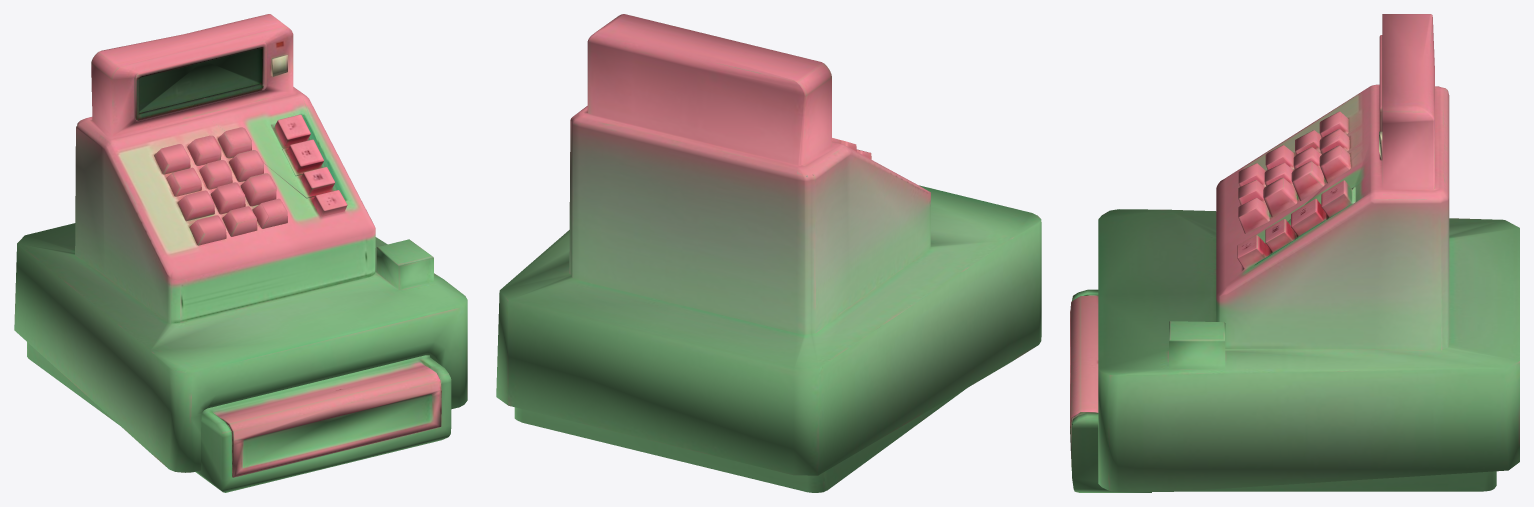
Rendered from Bank_CashRegister.glb.
3 renders of one model, left to right at view 1: azimuth 30°, elevation 25°; view 2: azimuth 150°, elevation 25°; view 3: azimuth 270°, elevation 25°, orthographic. The views are drawn at different scales.
Parts seen in each view (by area): view 1: tripo_node_527712da-ce00-40e8-bd35-d39f6e35804c; view 2: tripo_node_527712da-ce00-40e8-bd35-d39f6e35804c; view 3: tripo_node_527712da-ce00-40e8-bd35-d39f6e35804c.
Boxes of the visible parts, x1,y1,x2,y2 form: tripo_node_527712da-ce00-40e8-bd35-d39f6e35804c: (14, 14, 467, 492); tripo_node_527712da-ce00-40e8-bd35-d39f6e35804c: (496, 14, 1041, 492); tripo_node_527712da-ce00-40e8-bd35-d39f6e35804c: (1070, 14, 1519, 492).
Bounding box in the file's own units: 0.8759 × 0.913 × 1.
1 material, 1 textured.
